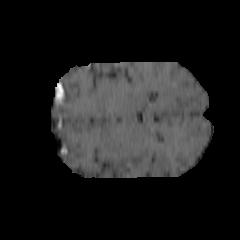glioma: (75, 110, 161, 162)
